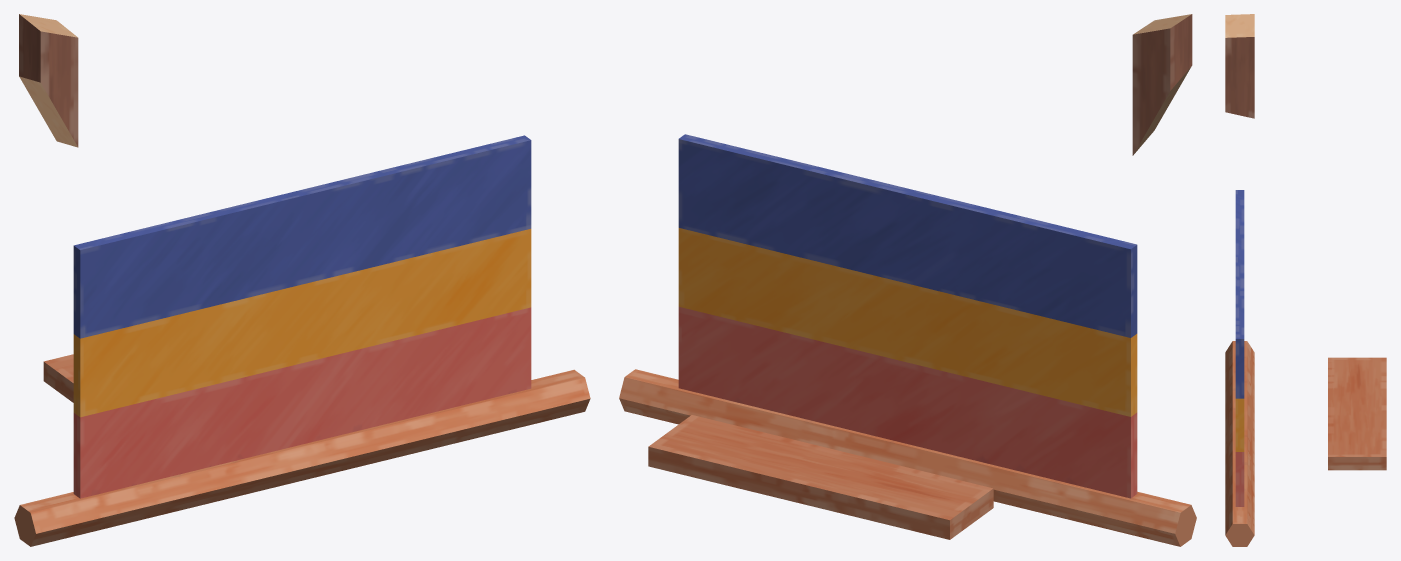
Rendered from loom_s02.fbx.
3 renders of one model, left to right at view 1: azimuth 30°, elevation 25°; view 2: azimuth 150°, elevation 25°; view 3: azimuth 270°, elevation 25°, orthographic. The views are drawn at different scales.
Parts seen in each view (by area): view 1: loom_s02; view 2: loom_s02; view 3: loom_s02.
Part boxes in pixels (x1,y1,x2,y2): loom_s02: [14, 14, 590, 546]; loom_s02: [619, 14, 1196, 546]; loom_s02: [1225, 14, 1386, 546].
Bounding box in the file's own units: 5.9 × 5.29 × 2.2.
